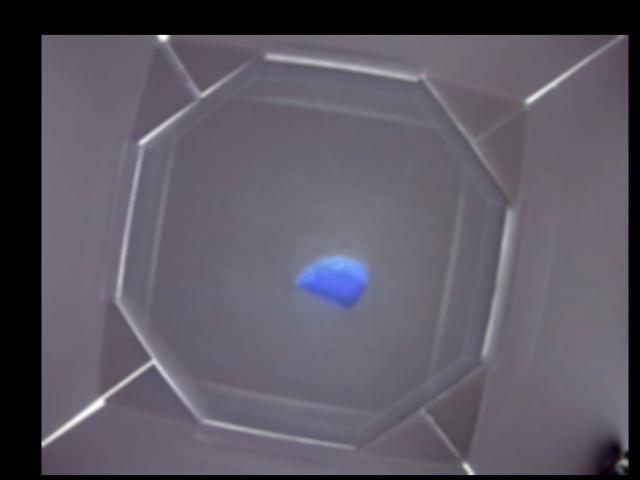Potato: (294, 257, 368, 304)
